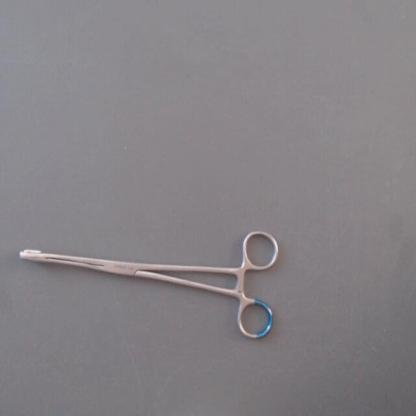Sponge Forceps: (11, 223, 283, 352)
